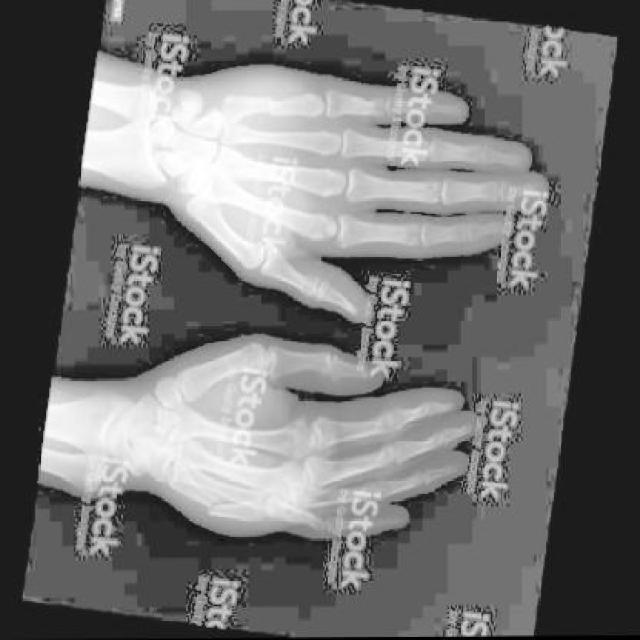Fracture: (256, 82, 296, 124), (199, 486, 236, 522)
